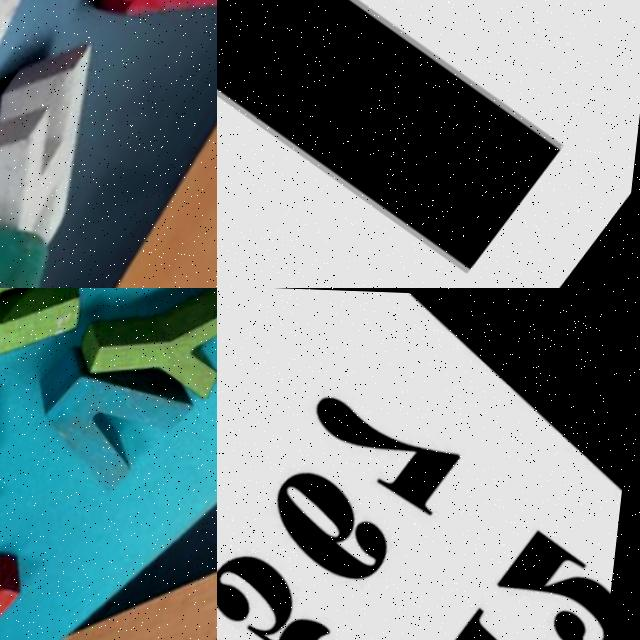1: (427, 587, 605, 640)
2: (474, 507, 624, 640)
5: (217, 524, 377, 640)
6: (238, 438, 434, 609)
7: (273, 338, 501, 533)
D: (0, 141, 112, 288)
F: (0, 288, 148, 421)
I: (0, 496, 65, 640)
L: (217, 0, 616, 288)
V: (10, 324, 202, 503)
Y: (83, 288, 217, 425)
Z: (0, 0, 98, 143)
